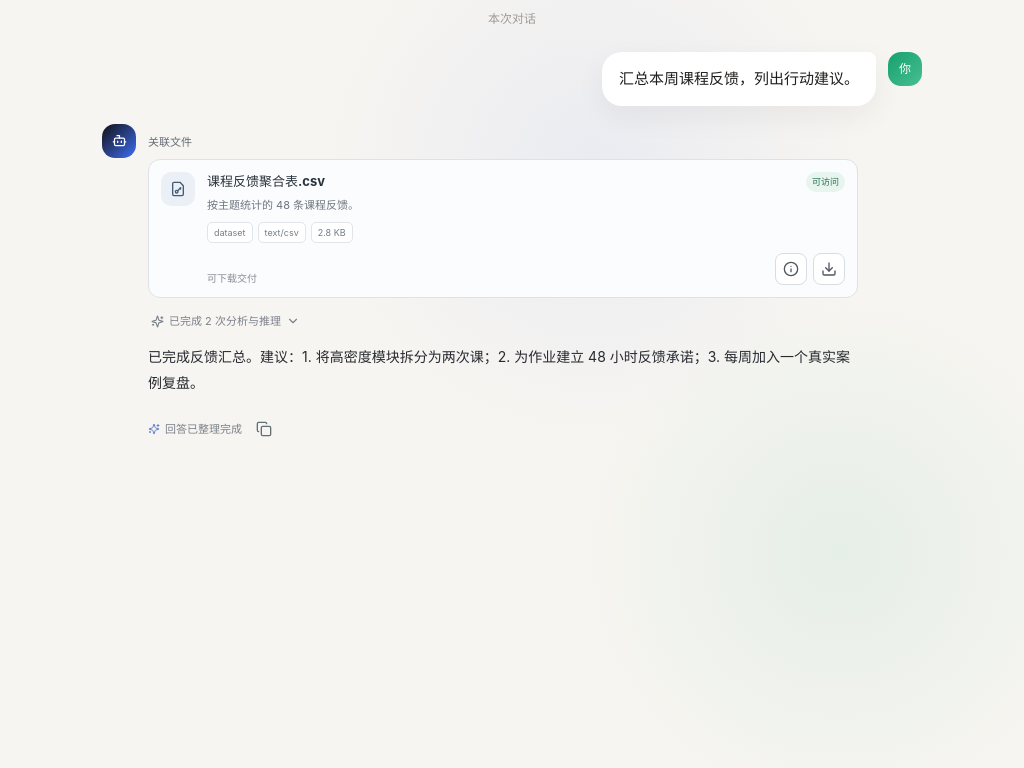
it: ConversationStream › 终答可直接复制原文并显示结果
The width and height of the screenshot is (1024, 768).
Click the button named "复制回答原文": (264, 429) [249,414,279,444]
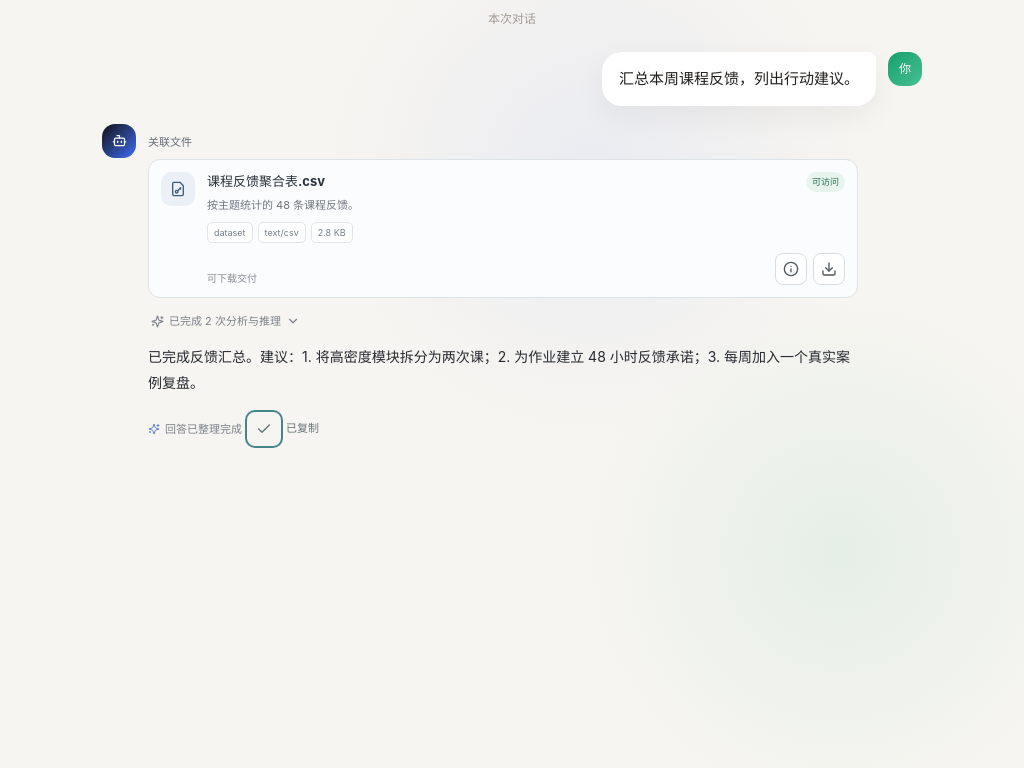
Result: the message reads "已复制" at [286,422,319,436]
